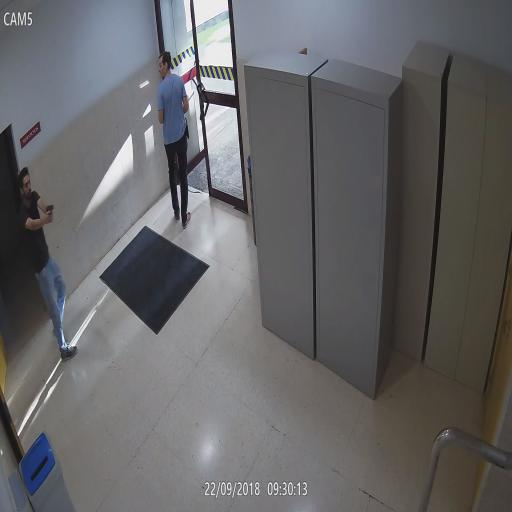Handgun: (44, 202, 56, 223)
